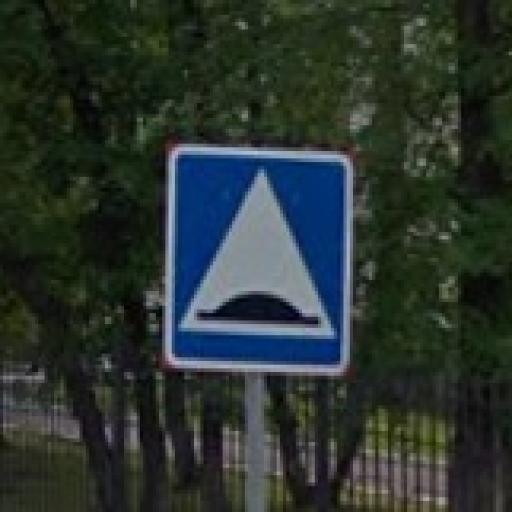traffic_sign: (167, 145, 358, 380)
